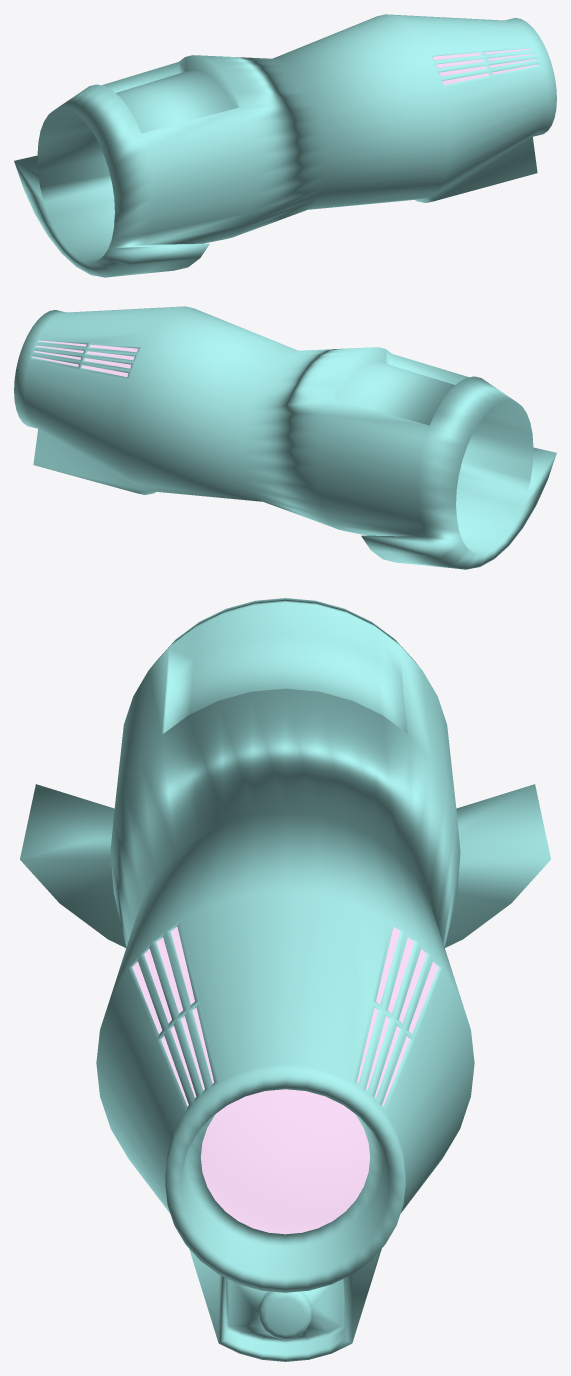
The model's file is pf-upload-1791824054179-motor_.glb.
3 views of the same model, one above another, from view 1: azimuth 30°, elevation 25°; view 2: azimuth 150°, elevation 25°; view 3: azimuth 270°, elevation 25° (orthographic). The views are drawn at different scales.
Parts seen in each view (by area): view 1: iLAW; view 2: iLAW; view 3: iLAW.
Boxes of the visible parts, x1=… form: iLAW: x1=14, y1=14, x2=556, y2=277; iLAW: x1=14, y1=306, x2=556, y2=569; iLAW: x1=20, y1=598, x2=550, y2=1361.
Size of the model in its own units: 6.73 by 2.63 by 3.43.
